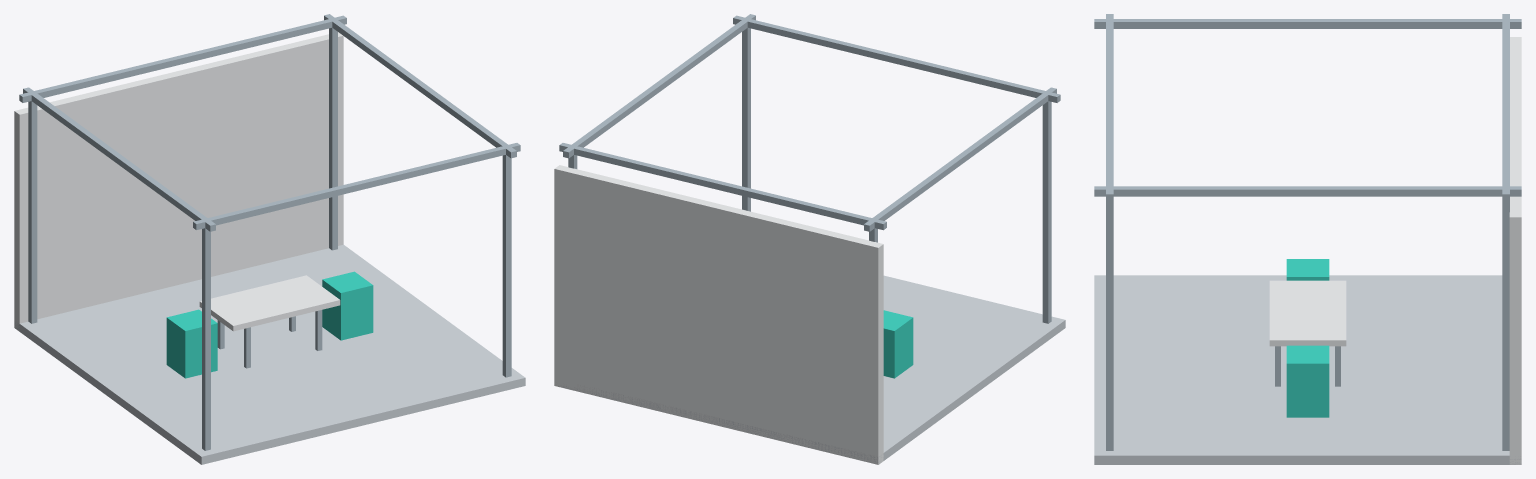
3 renders of one model, left to right at view 1: azimuth 30°, elevation 25°; view 2: azimuth 150°, elevation 25°; view 3: azimuth 270°, elevation 25°, orthographic. The views are drawn at different scales.
Parts seen in each view (by area): view 1: Exhibition Booth Concept; view 2: Exhibition Booth Concept; view 3: Exhibition Booth Concept.
Part boxes in pixels (left/top/right/bottom): Exhibition Booth Concept: left=14, top=14, right=525, bottom=464; Exhibition Booth Concept: left=554, top=14, right=1065, bottom=464; Exhibition Booth Concept: left=1094, top=14, right=1521, bottom=464.
Bounding box in the file's own units: 5 × 3.49 × 5.
